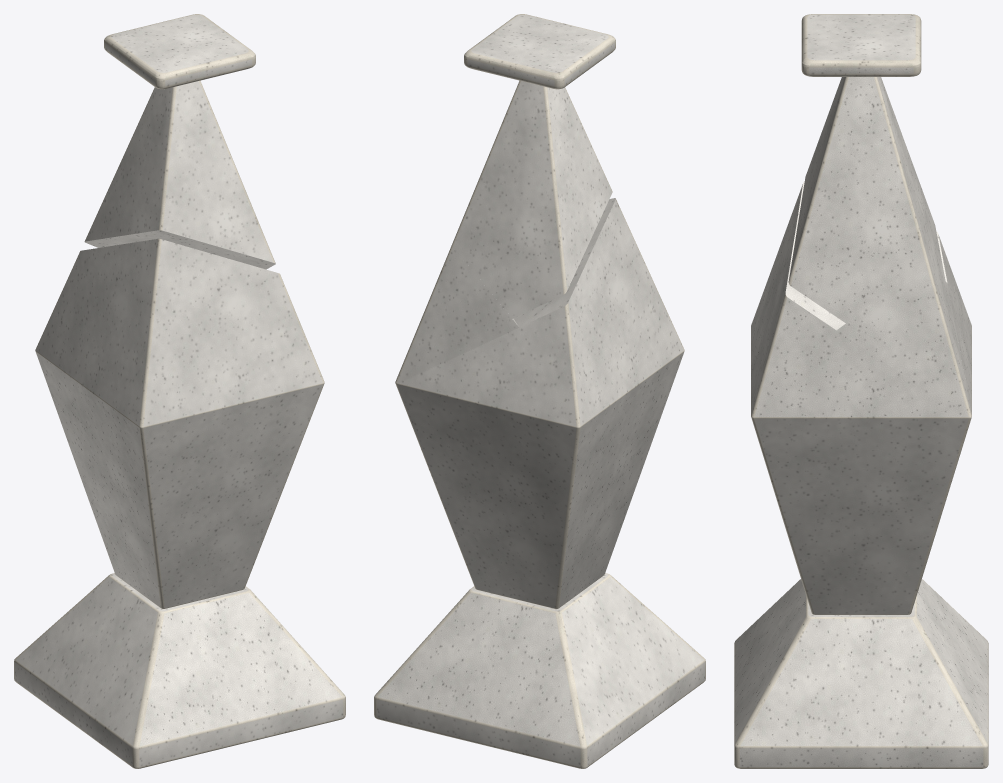
Rendered from bishop-white.glb.
3 views of the same model, side by side, from view 1: azimuth 30°, elevation 25°; view 2: azimuth 150°, elevation 25°; view 3: azimuth 270°, elevation 25° (orthographic). The views are drawn at different scales.
Parts seen in each view (by area): view 1: bishop_white; view 2: bishop_white; view 3: bishop_white.
Boxes of the visible parts, x1=… form: bishop_white: x1=14, y1=14, x2=345, y2=768; bishop_white: x1=374, y1=14, x2=705, y2=768; bishop_white: x1=734, y1=14, x2=988, y2=768.
Bounding box in the file's own units: 0.4577 × 1.35 × 0.4577.
2 materials, 2 textured.
